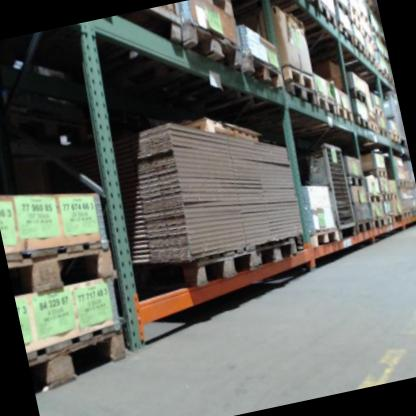pallet: (22, 309, 138, 397), (4, 224, 119, 302), (136, 237, 263, 298), (183, 11, 250, 87), (98, 5, 184, 59), (236, 42, 285, 103), (253, 233, 305, 272), (276, 53, 317, 97), (279, 76, 320, 119), (301, 224, 345, 254), (274, 0, 321, 19), (315, 88, 339, 125), (317, 0, 338, 38), (334, 100, 356, 132), (334, 19, 354, 54), (342, 80, 369, 105), (350, 213, 375, 237), (362, 163, 390, 181), (352, 111, 370, 137), (352, 33, 369, 60), (344, 168, 368, 187), (332, 0, 353, 19), (371, 212, 389, 233), (368, 102, 387, 119), (369, 119, 382, 141), (365, 188, 384, 203), (377, 124, 390, 143), (384, 214, 397, 228), (379, 190, 392, 201)
stillage: (286, 138, 362, 249), (378, 89, 406, 148)
